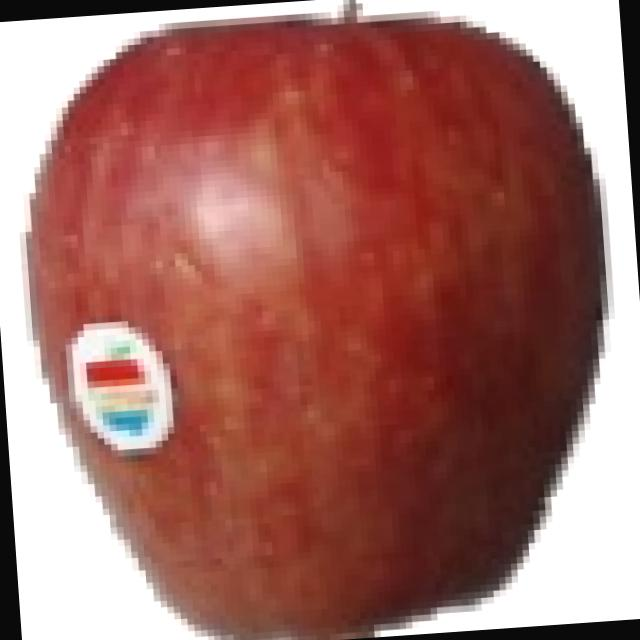apple: (5, 0, 629, 640)
